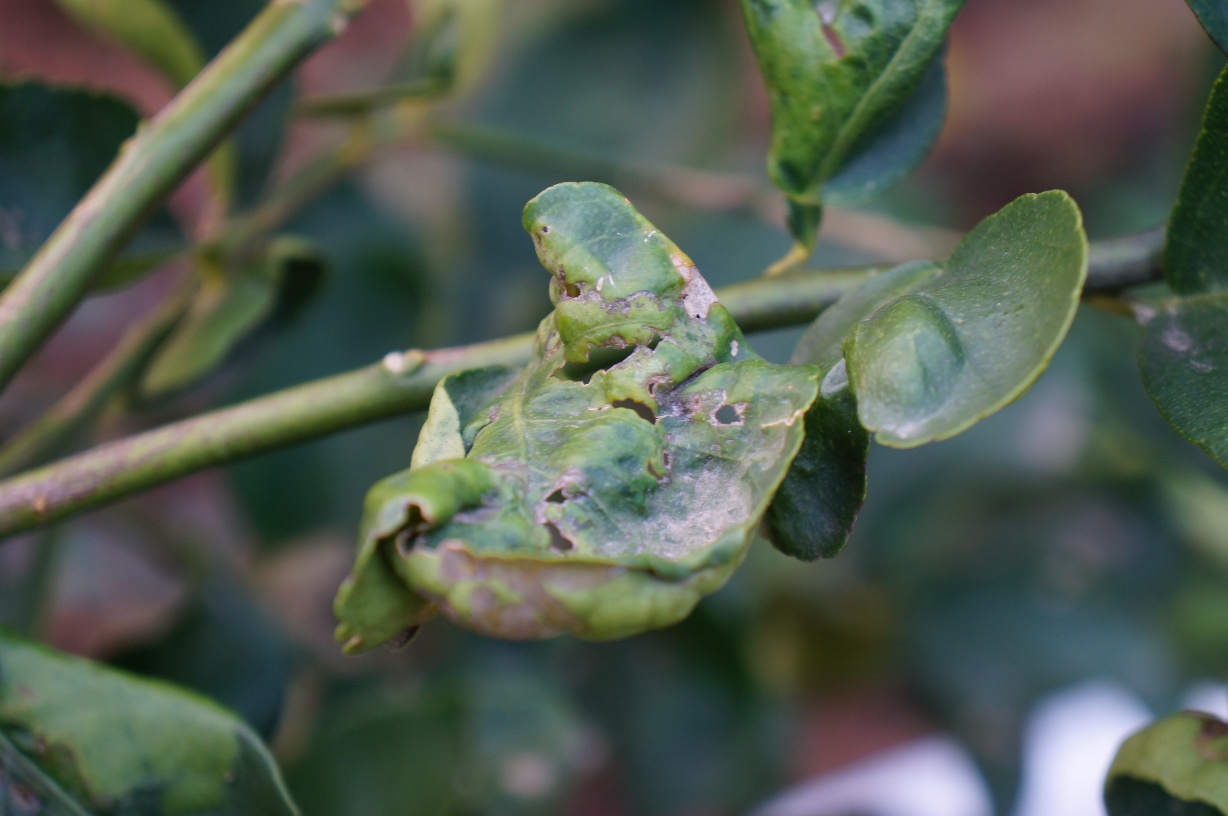curly: (303, 174, 835, 694)
